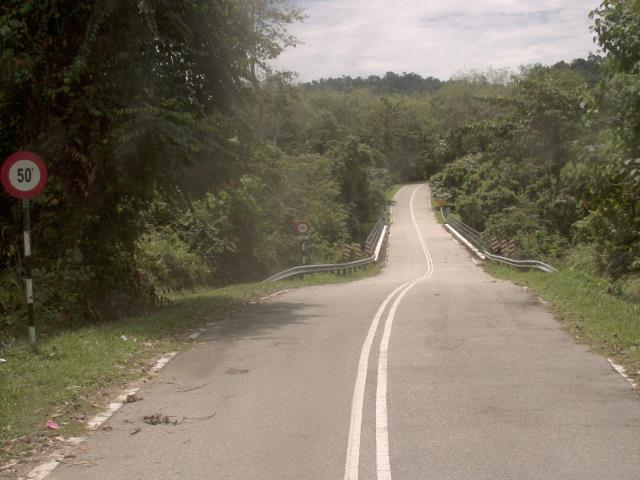traffic_sign: (0, 141, 53, 207)
